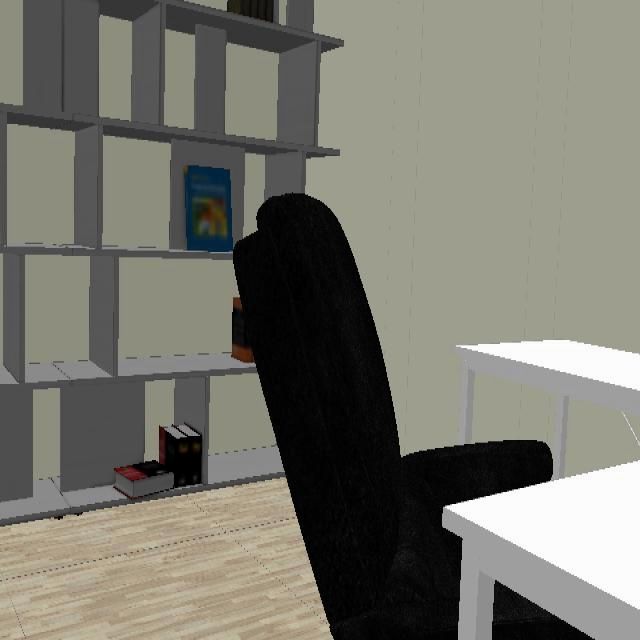book: (118, 424, 203, 503), (183, 165, 232, 252), (231, 299, 253, 363)
chair: (232, 195, 553, 640)
table: (442, 460, 640, 591), (454, 340, 640, 447)
